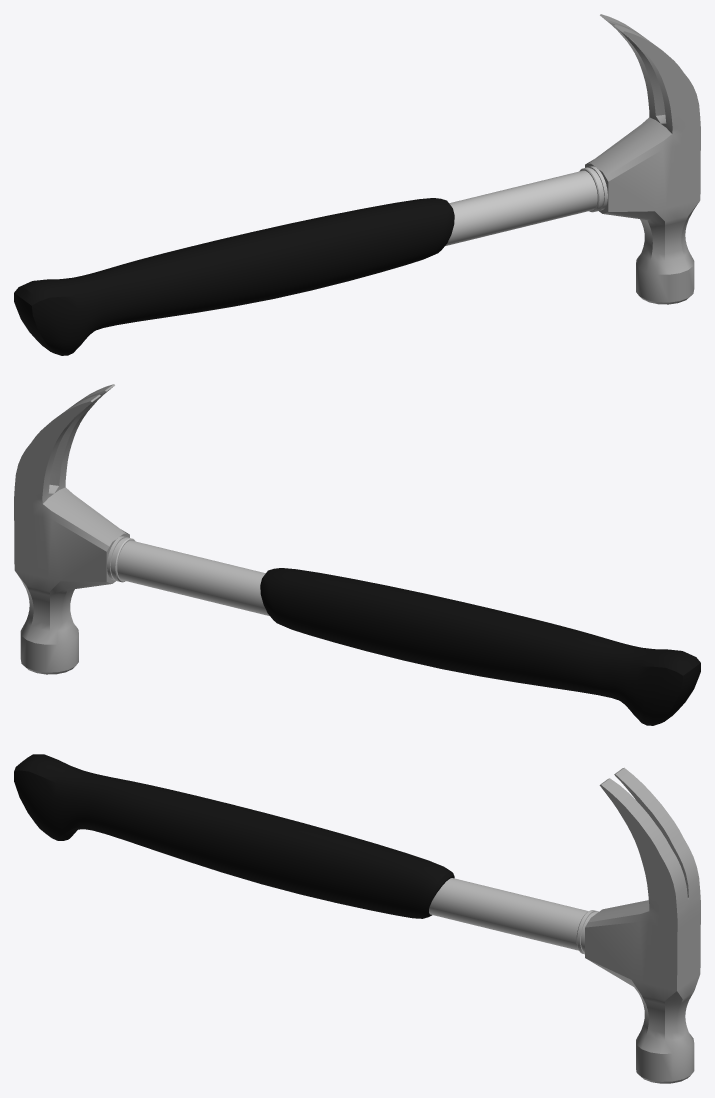
File: Hammer.fbx
3 renders of one model, top to bottom at view 1: azimuth 30°, elevation 25°; view 2: azimuth 150°, elevation 25°; view 3: azimuth 330°, elevation 25°, orthographic.
Parts seen in each view (by area): view 1: Hammer LOD0; view 2: Hammer LOD0; view 3: Hammer LOD0.
Boxes of the visible parts, box(x1,y1,x2,y2) form: Hammer LOD0: box(14, 14, 700, 355); Hammer LOD0: box(14, 384, 700, 725); Hammer LOD0: box(14, 754, 700, 1083).
Size of what is drawn, in the model's own units: 0.3332 by 0.1347 by 0.0267.
1 material, 1 textured.
